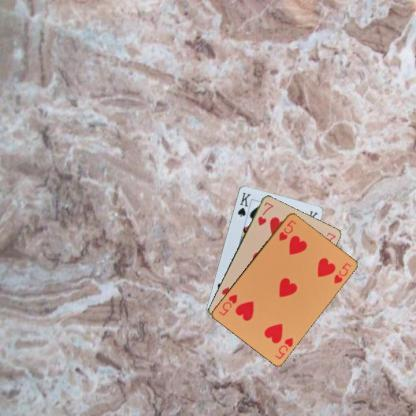5h: (272, 334, 295, 360), (276, 217, 298, 242)
7h: (254, 199, 274, 226)
Ks: (234, 189, 252, 218)
